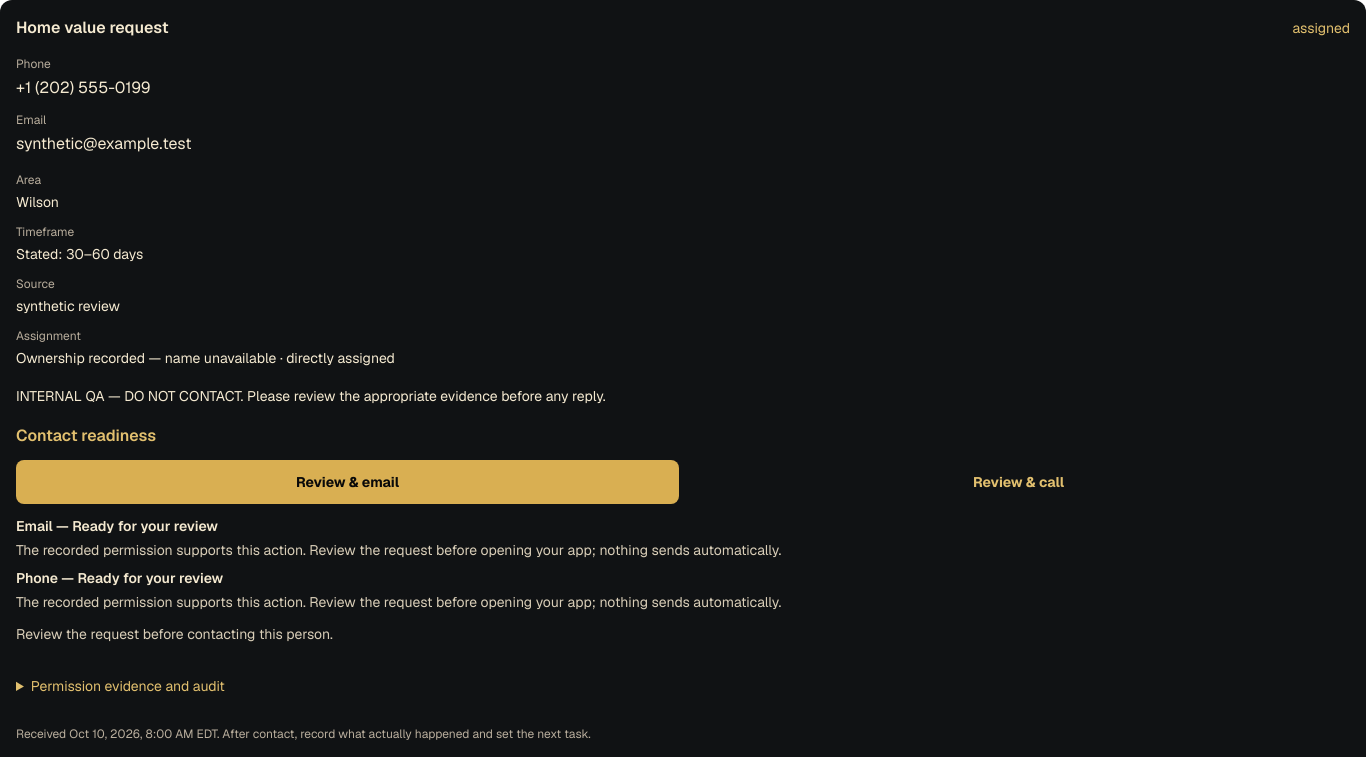
Test: fresh contact access denial (component-only synthetic fetches, not auth proof) › a changed exact contact target requires a new review rather than launching the replacement
What coordinates should you click on to do the following:
click the button "Review & call"
I would click on:
 (1018, 482)
Its box is [687,460,1350,504].
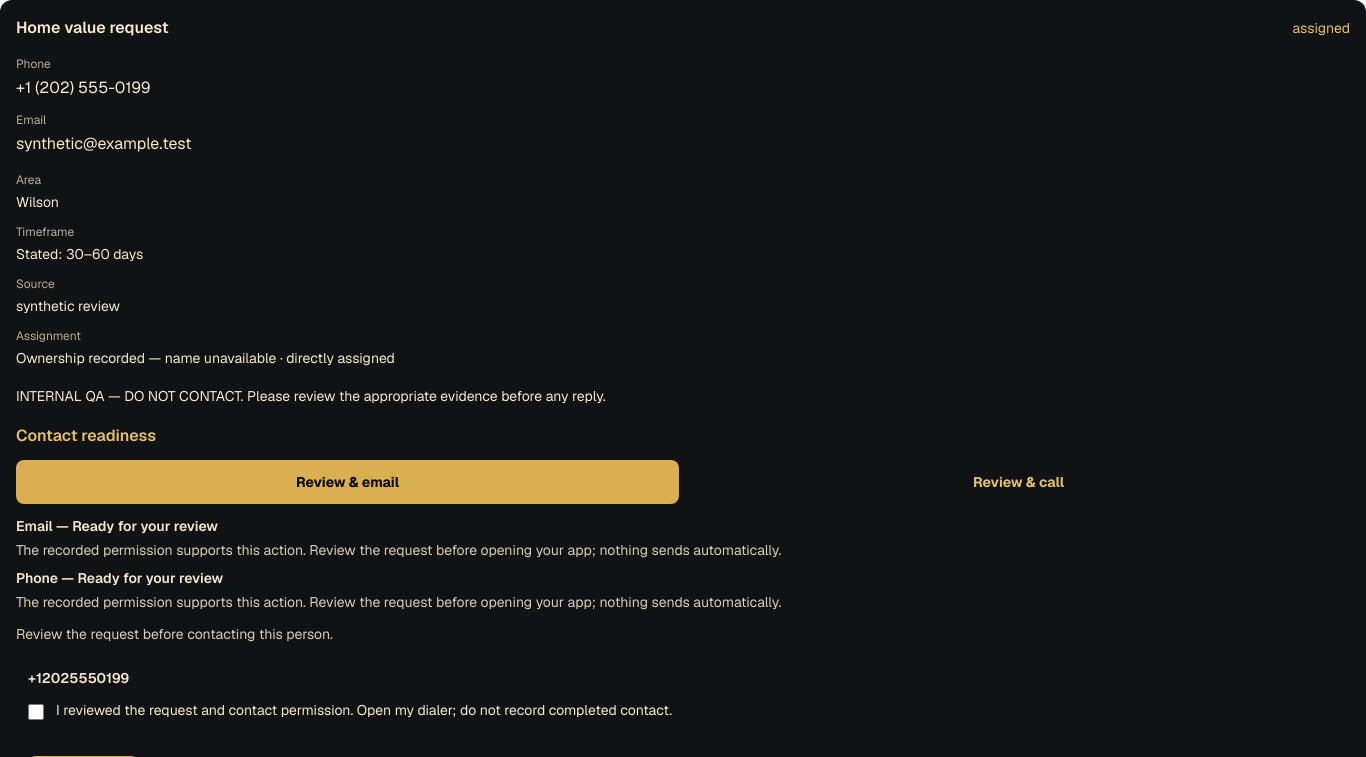
What coordinates should you click on to do the following:
click the checkbox
I would click on:
 (36, 712)
Its box is [28,704,44,720].
(page scrolled)
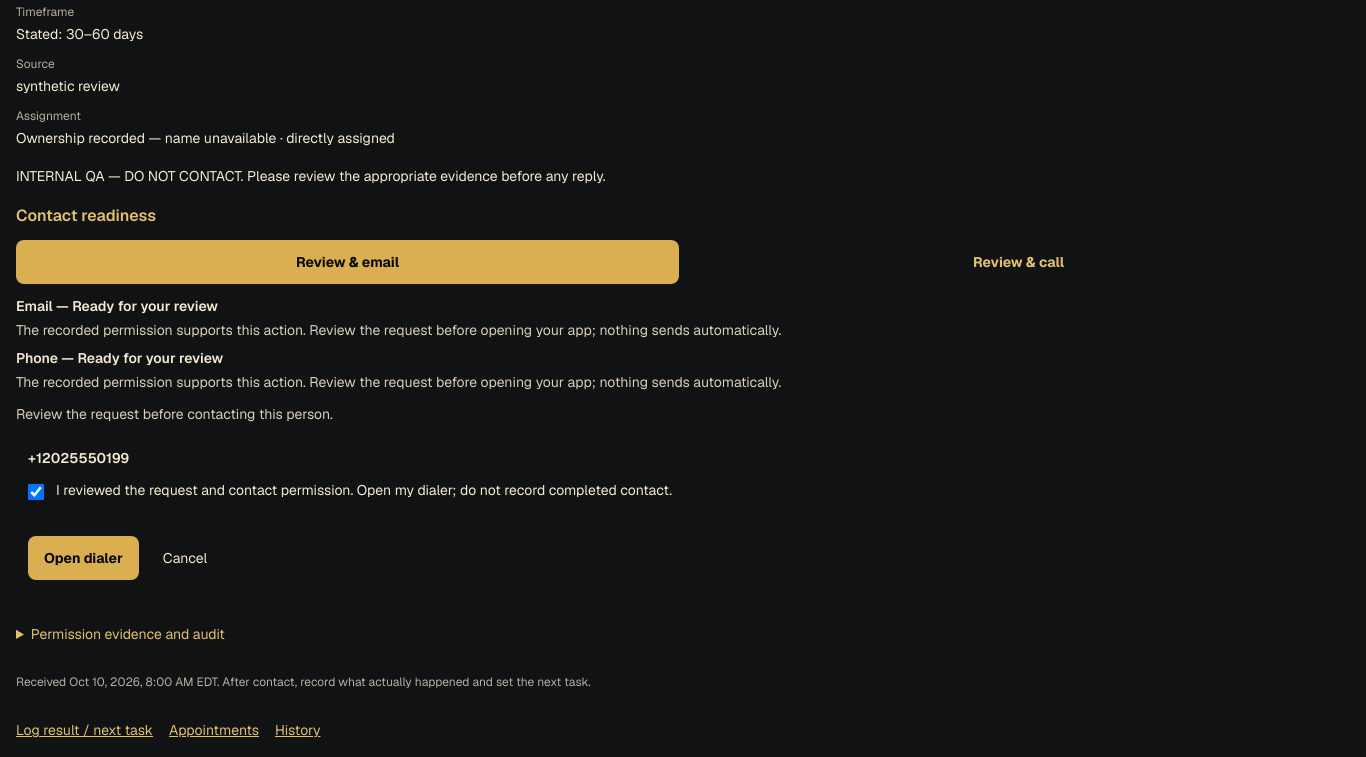
What coordinates should you click on to do the following:
click the button "Open dialer"
I would click on:
 (83, 558)
Its box is [28,536,139,580].
(page scrolled)
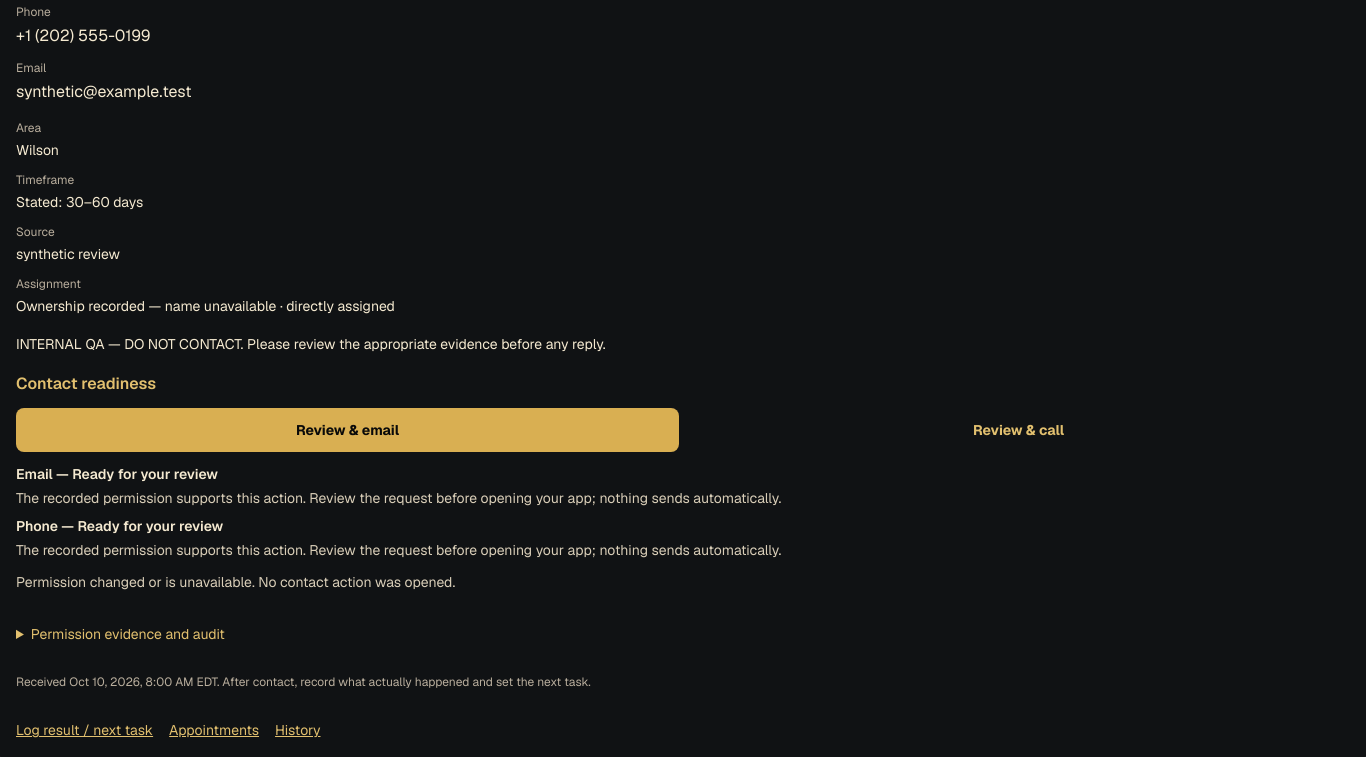
expect the text "Permission changed or is unavailable. No contact action was opened." is shown: met, box [16,573,455,591]
expect the button "Open dialer" is gone: met
